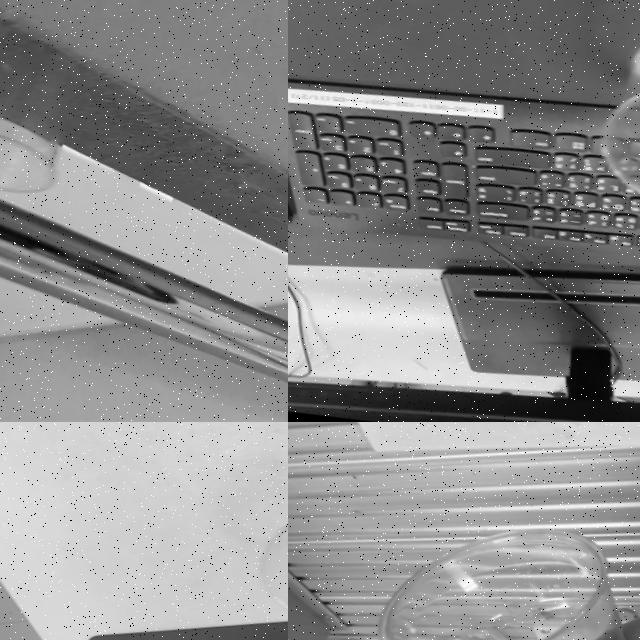glass: (323, 478, 640, 640), (568, 11, 640, 247), (0, 25, 85, 219), (225, 453, 288, 640)
